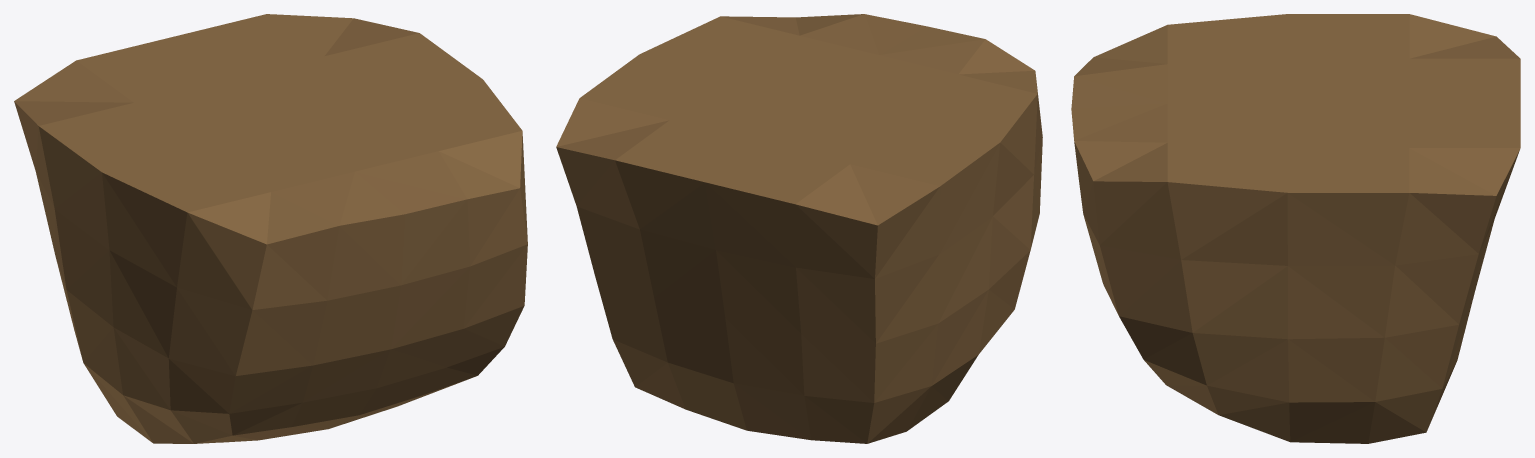
Rendered from LeftFingerJoint23y_joint_visu.dae.
3 renders of one model, left to right at view 1: azimuth 30°, elevation 25°; view 2: azimuth 150°, elevation 25°; view 3: azimuth 270°, elevation 25°, orthographic. The views are drawn at different scales.
Visible parts, largest first — view 1: node; view 2: node; view 3: node.
Part boxes in pixels (x1,y1,x2,y2): node: (14, 14, 527, 443); node: (556, 14, 1042, 443); node: (1071, 14, 1520, 443).
Bounding box in the file's own units: 0.0109 × 0.00847 × 0.0115.
